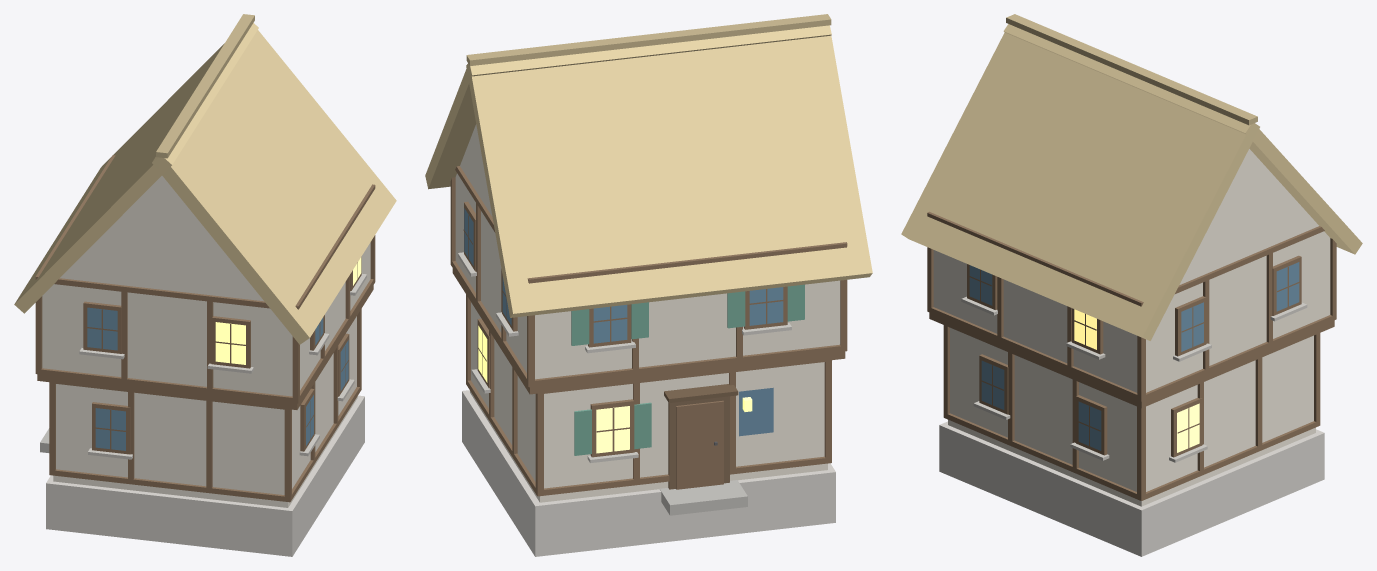
Rendered from struct_4_9.glb.
3 views of the same model, side by side, from view 1: azimuth 30°, elevation 25°; view 2: azimuth 150°, elevation 25°; view 3: azimuth 270°, elevation 25° (orthographic). The views are drawn at different scales.
Visible parts, largest first — view 1: HousesNear; view 2: HousesNear, HousesFar; view 3: HousesNear.
Boxes of the visible parts, x1,y1,x2,y2 form: HousesNear: (14,14,396,556); HousesNear: (425,14,872,556); HousesFar: (739,387,773,436); HousesNear: (901,14,1362,556).
Size of the model in its own units: 11.23 by 10.96 by 11.23.
